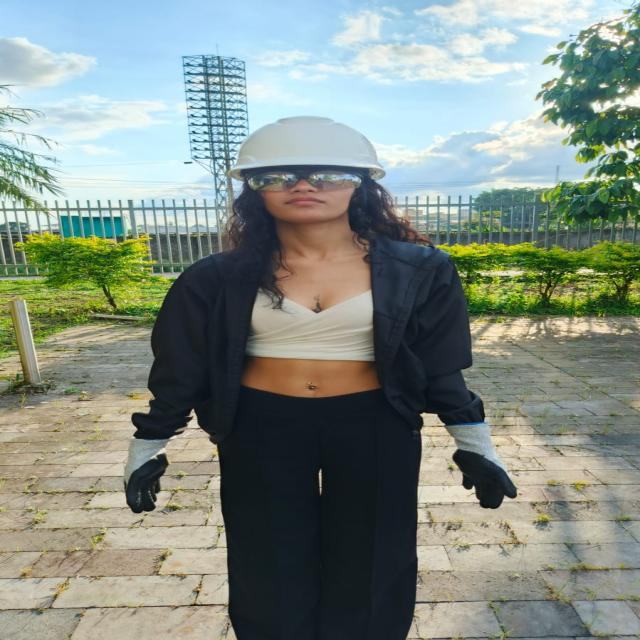gloves: (446, 422, 517, 509), (124, 437, 169, 513)
helmet: (231, 116, 384, 177)
protective_glasses: (244, 171, 362, 191)
